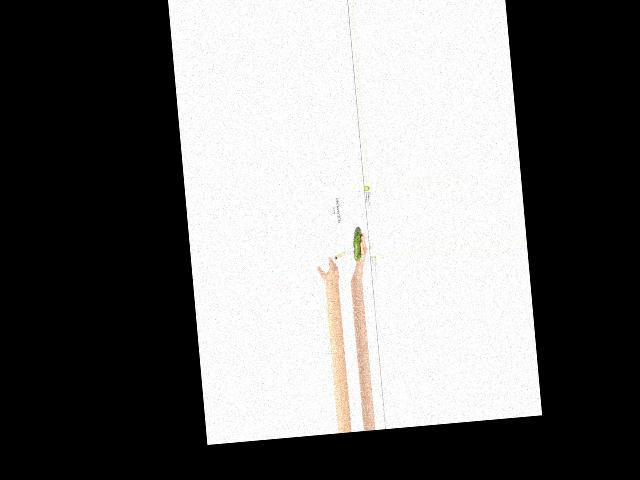cucumber: (352, 226, 364, 261)
